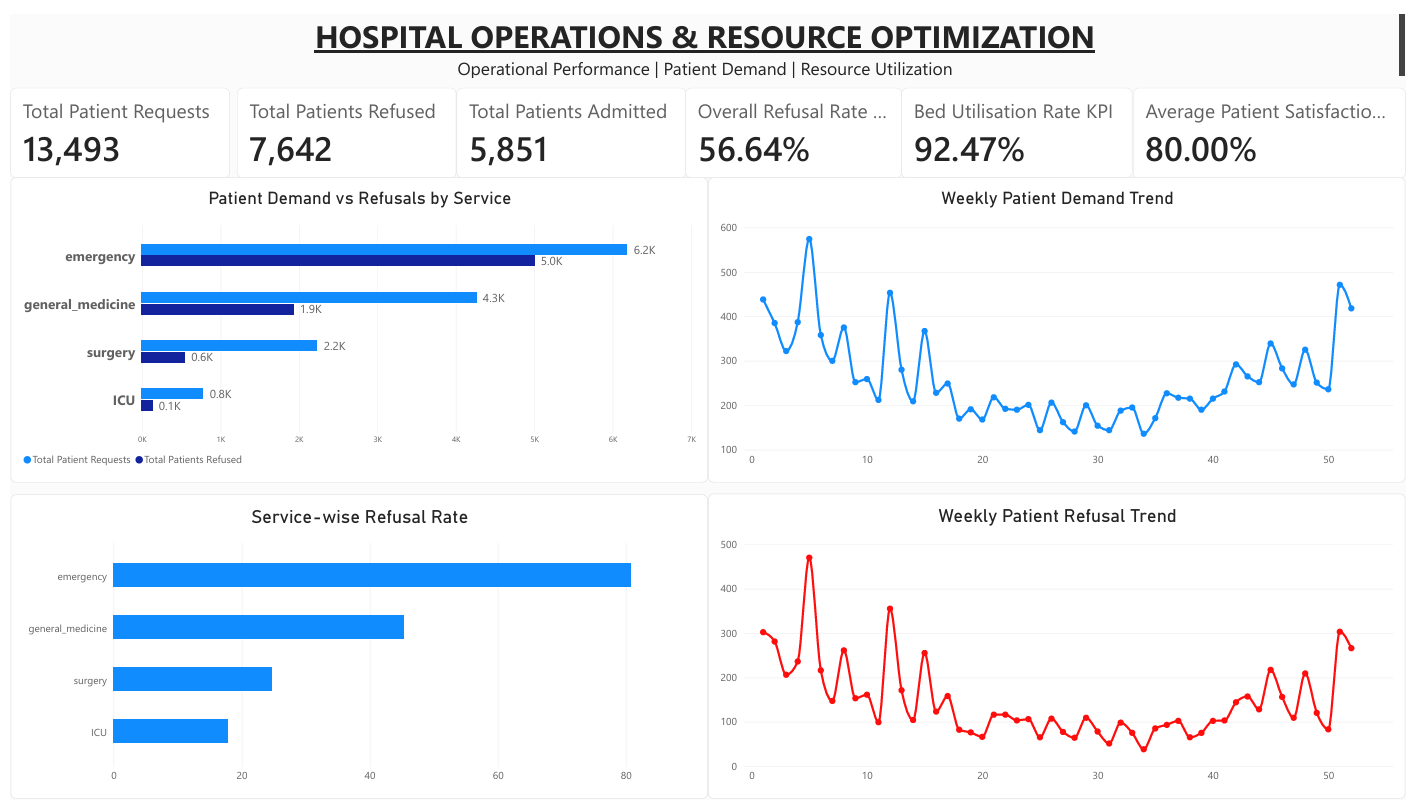

The page's visual inventory and layout, read from the dashboard file:
{"tool":"powerbi","page":{"name":"Hospital  Overview","canvas":[1920,1080],"ordinal":0},"visuals":[{"type":"cardVisual","title":"Total Patients Request ","fields":{"Data":["Hospital_Operations_Analysis - Services_weekly_SQL.Total Patient Requests"]},"box":[0,100.6,302,124],"z":0},{"type":"cardVisual","fields":{"Data":["Hospital_Operations_Analysis - Services_weekly_SQL.Total Patients Refused"]},"box":[312.4,100.6,302,124],"z":1000},{"type":"cardVisual","fields":{"Data":["Hospital_Operations_Analysis - Services_weekly_SQL.Total Patients Admitted"]},"box":[614.3,100.6,316,124],"z":2000},{"type":"cardVisual","fields":{"Data":["Hospital_Operations_Analysis - Services_weekly_SQL.Overall Refusal Rate KPI"]},"box":[928.8,100.6,298,124],"z":3000},{"type":"cardVisual","fields":{"Data":["Hospital_Operations_Analysis - Services_weekly_SQL.Bed Utilisation Rate KPI"]},"box":[1226.5,100.6,318,124],"z":4000},{"type":"cardVisual","fields":{"Data":["Hospital_Operations_Analysis - Services_weekly_SQL.Average Patient Satisfaction KPI"]},"box":[1545.1,100.6,375,125],"z":5000},{"type":"textbox","box":[0,0,1920.4,86.9],"z":6000},{"type":"clusteredBarChart","title":"Patient Demand vs Refusals by Service","fields":{"Category":["Dim_service.service"],"Y":["Hospital_Operations_Analysis - Services_weekly_SQL.Total Patient Requests","Hospital_Operations_Analysis - Services_weekly_SQL.Total Patients Refused"]},"box":[0,224.3,960.2,419.3],"z":7000},{"type":"lineChart","title":"Weekly Patient Demand Trend","fields":{"Category":["Hospital_Operations_Analysis - Services_weekly_SQL.week"],"Y":["Hospital_Operations_Analysis - Services_weekly_SQL.Total Patient Requests"]},"box":[960.2,224.3,960.2,419.3],"z":8000},{"type":"lineChart","title":"Weekly Patient Refusal Trend","fields":{"Category":["Hospital_Operations_Analysis - Services_weekly_SQL.week"],"Y":["Hospital_Operations_Analysis - Services_weekly_SQL.Total Patients Refused"]},"box":[960.2,659,960.2,420.5],"z":9000},{"type":"clusteredBarChart","title":"Service-wise Refusal Rate","fields":{"Category":["Dim_service.service"],"Y":["Hospital_Operations_Analysis - Services_weekly_SQL.Service Refusal Rate"]},"box":[0,660,960,419],"z":10000}]}

Visuals, with their boxes in screenshot pixels (x1, y1, x2, y2), scaled from the page's 1920x1080 canvas onto the 1423x810 screenshot:
"Total Patients Request " cardVisual: (x1=0, y1=75, x2=224, y2=168)
cardVisual - Hospital_Operations_Analysis - Services_weekly_SQL.Total Patients Refused: (x1=232, y1=75, x2=455, y2=168)
cardVisual - Hospital_Operations_Analysis - Services_weekly_SQL.Total Patients Admitted: (x1=455, y1=75, x2=689, y2=168)
cardVisual - Hospital_Operations_Analysis - Services_weekly_SQL.Overall Refusal Rate KPI: (x1=688, y1=75, x2=909, y2=168)
cardVisual - Hospital_Operations_Analysis - Services_weekly_SQL.Bed Utilisation Rate KPI: (x1=909, y1=75, x2=1145, y2=168)
cardVisual - Hospital_Operations_Analysis - Services_weekly_SQL.Average Patient Satisfaction KPI: (x1=1145, y1=75, x2=1422, y2=169)
textbox: (x1=0, y1=0, x2=1422, y2=65)
"Patient Demand vs Refusals by Service" clusteredBarChart: (x1=0, y1=168, x2=712, y2=483)
"Weekly Patient Demand Trend" lineChart: (x1=712, y1=168, x2=1422, y2=483)
"Weekly Patient Refusal Trend" lineChart: (x1=712, y1=494, x2=1422, y2=809)
"Service-wise Refusal Rate" clusteredBarChart: (x1=0, y1=495, x2=712, y2=809)
